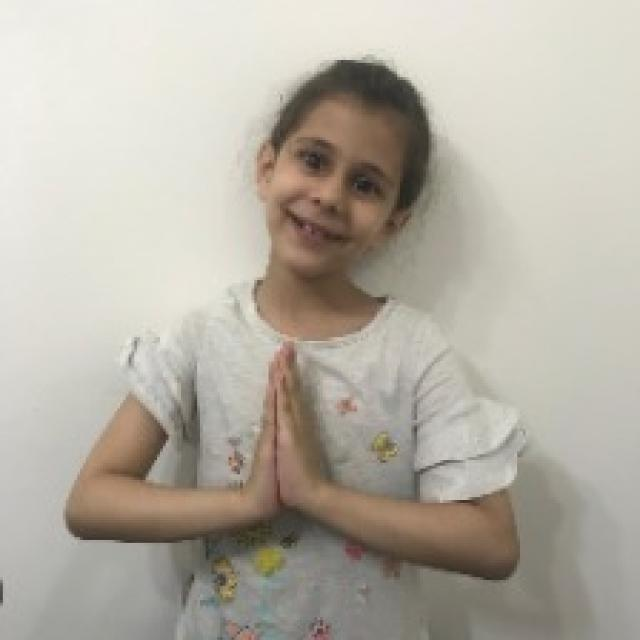sorry: (241, 332, 329, 524)
